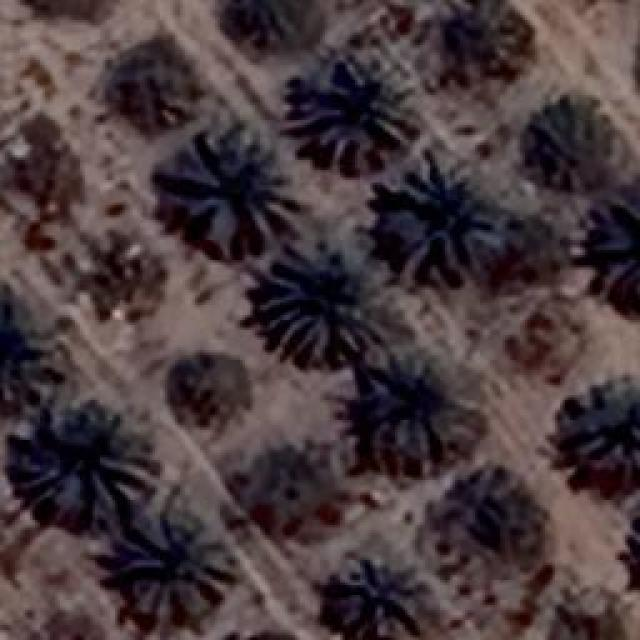PalmTree: (255, 235, 398, 363), (282, 45, 420, 175), (382, 142, 510, 280), (168, 125, 302, 255), (12, 398, 160, 512), (118, 507, 232, 625), (360, 348, 462, 468), (21, 115, 62, 350), (62, 95, 114, 269), (456, 464, 544, 564), (105, 42, 195, 132), (568, 370, 638, 478), (330, 555, 420, 635), (532, 102, 610, 180), (230, 0, 318, 55), (592, 195, 638, 298), (456, 6, 529, 69), (548, 594, 630, 640), (624, 504, 640, 600), (214, 630, 315, 640)
